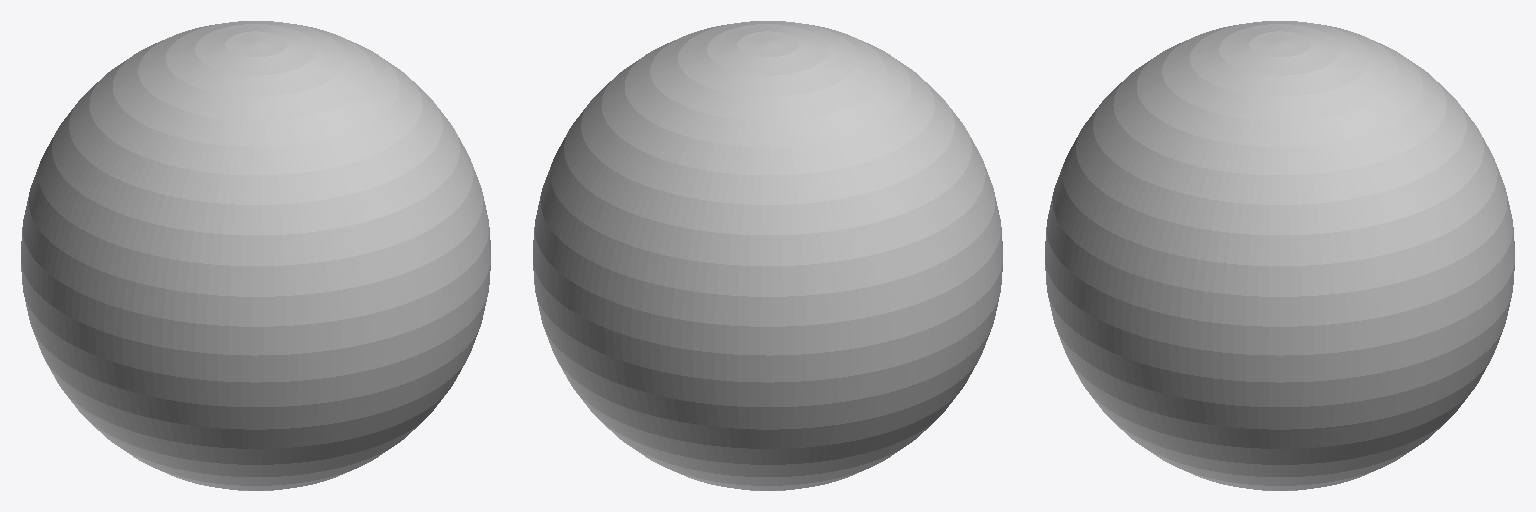
The model's file is Jupiter.obj.
The picture shows the model from 3 angles: view 1: azimuth 30°, elevation 25°; view 2: azimuth 150°, elevation 25°; view 3: azimuth 270°, elevation 25°; orthographic projection.
Visible parts, largest first — view 1: Sphere_Material.002_0.001; view 2: Sphere_Material.002_0.001; view 3: Sphere_Material.002_0.001.
Boxes of the visible parts, x1,y1,x2,y2 form: Sphere_Material.002_0.001: [21, 21, 490, 490]; Sphere_Material.002_0.001: [533, 21, 1002, 490]; Sphere_Material.002_0.001: [1045, 21, 1514, 490].
Bounding box in the file's own units: 86.88 × 86.88 × 86.88.